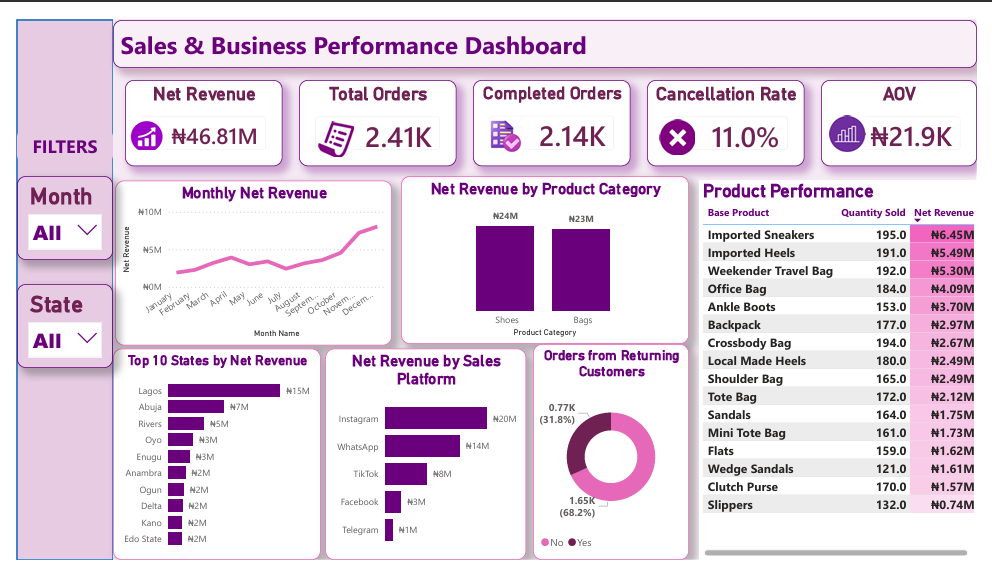

What the dashboard file says about the page in this screenshot:
{"tool":"powerbi","page":{"name":"Page 1","canvas":[1280,720],"ordinal":0},"visuals":[{"type":"shape","box":[0,0,128,720],"z":0},{"type":"cardVisual","title":"AOV","fields":{"Data":["Sales Transactions.AOV"]},"box":[1072,80,208,115],"z":1000},{"type":"lineChart","title":"Monthly Net Revenue","fields":{"Category":["Sales Transactions.Month Name"],"Y":["Sales Transactions.Net  Revenue"]},"box":[131.2,213.8,368.8,220],"z":2000},{"type":"clusteredColumnChart","title":"Net Revenue by Product Category","fields":{"Category":["Sales Transactions.Product Category"],"Y":["Sales Transactions.Net  Revenue"]},"box":[512,208,384,224],"z":3000},{"type":"clusteredBarChart","title":"Top 10 States by Net Revenue","fields":{"Category":["Sales Transactions.State"],"Y":["Sales Transactions.Net  Revenue"]},"box":[127.5,437.5,277.5,282.5],"z":4000},{"type":"clusteredBarChart","title":"Net  Revenue by Sales Platform","fields":{"Category":["Sales Transactions.Platform"],"Y":["Sales Transactions.Net  Revenue"]},"box":[411.2,437.5,267.5,282.5],"z":5000},{"type":"donutChart","title":"Orders from Returning Customers","fields":{"Category":["Sales Transactions.Returning Customer?"],"Y":["CountNonNull(Sales Transactions.ORDER ID)"]},"box":[688,432,208,288],"z":6000},{"type":"tableEx","title":"Product Performance","fields":{"Values":["Sales Transactions.Base Product","Sales Transactions.Quantity Sold","Sales Transactions.Net  Revenue"]},"box":[910,213.8,370,506.2],"z":7000},{"type":"textbox","box":[128,0,1152,64],"z":8000},{"type":"cardVisual","title":"Cancellation Rate","fields":{"Data":["Sales Transactions.Cancellation Rate"]},"box":[840,80,210,115],"z":9000},{"type":"cardVisual","title":"Net Revenue","fields":{"Data":["Sales Transactions.Net  Revenue"]},"box":[144,80,210,115],"z":10000},{"type":"cardVisual","title":"Total Orders","fields":{"Data":["Sales Transactions.Total Orders"]},"box":[376,80,210,115],"z":11000},{"type":"cardVisual","title":"Completed Orders","fields":{"Data":["Sales Transactions.Completed Orders"]},"box":[608,80,210,115],"z":12000},{"type":"image","box":[1083,128,48,48],"z":13000},{"type":"image","box":[149,129,48,48],"z":14000},{"type":"image","box":[402,136,48,48],"z":15000},{"type":"image","box":[628,131,48,48],"z":16000},{"type":"image","box":[857,133,48,48],"z":17000},{"type":"slicer","fields":{"Values":["Sales Transactions.State"]},"box":[0,352,128,112],"z":18000},{"type":"slicer","fields":{"Values":["Sales Transactions.Date.Variation.Date Hierarchy.Month"]},"box":[0,208,128,112],"z":19000},{"type":"shape","box":[0,144,128,48],"z":20000}]}

Visuals, with their boxes in screenshot pixels (x1, y1, x2, y2):
shape: l=13, t=0, r=111, b=550
"AOV" cardVisual: l=832, t=61, r=991, b=149
"Monthly Net Revenue" lineChart: l=113, t=163, r=395, b=332
"Net Revenue by Product Category" clusteredColumnChart: l=404, t=159, r=698, b=330
"Top 10 States by Net Revenue" clusteredBarChart: l=110, t=334, r=322, b=550
"Net  Revenue by Sales Platform" clusteredBarChart: l=327, t=334, r=532, b=550
"Orders from Returning Customers" donutChart: l=539, t=330, r=698, b=550
"Product Performance" tableEx: l=708, t=163, r=991, b=550
textbox: l=111, t=0, r=991, b=49
"Cancellation Rate" cardVisual: l=655, t=61, r=815, b=149
"Net Revenue" cardVisual: l=123, t=61, r=283, b=149
"Total Orders" cardVisual: l=300, t=61, r=461, b=149
"Completed Orders" cardVisual: l=478, t=61, r=638, b=149
image: l=841, t=98, r=877, b=135
image: l=127, t=99, r=163, b=135
image: l=320, t=104, r=357, b=141
image: l=493, t=100, r=530, b=137
image: l=668, t=102, r=705, b=138
slicer - Sales Transactions.State: l=13, t=269, r=111, b=355
slicer - Sales Transactions.Date.Variation.Date Hierarchy.Month: l=13, t=159, r=111, b=245
shape: l=13, t=110, r=111, b=147
